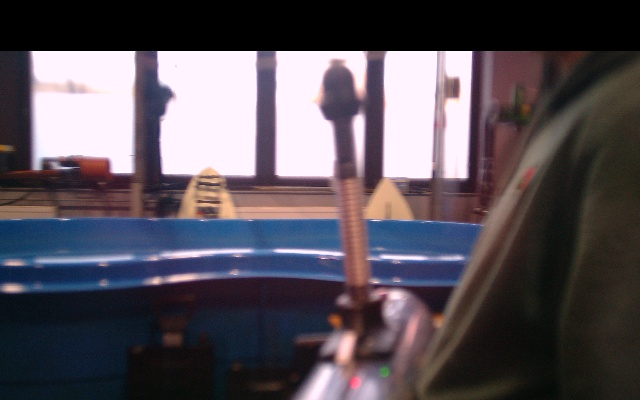black: (333, 164, 372, 298)
